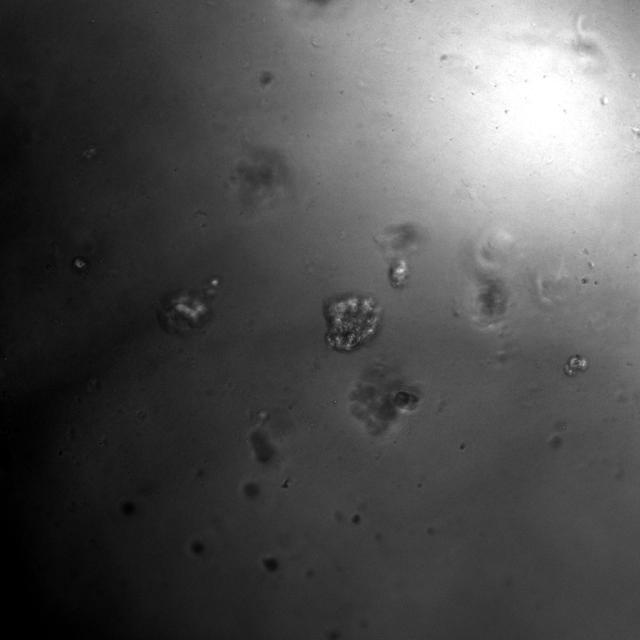organoid: (349, 362, 421, 436), (157, 278, 219, 334), (324, 296, 379, 349), (388, 259, 408, 288), (564, 354, 589, 376)
